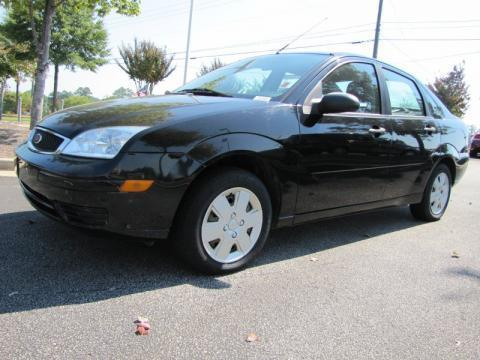Car: (11, 36, 476, 288)
